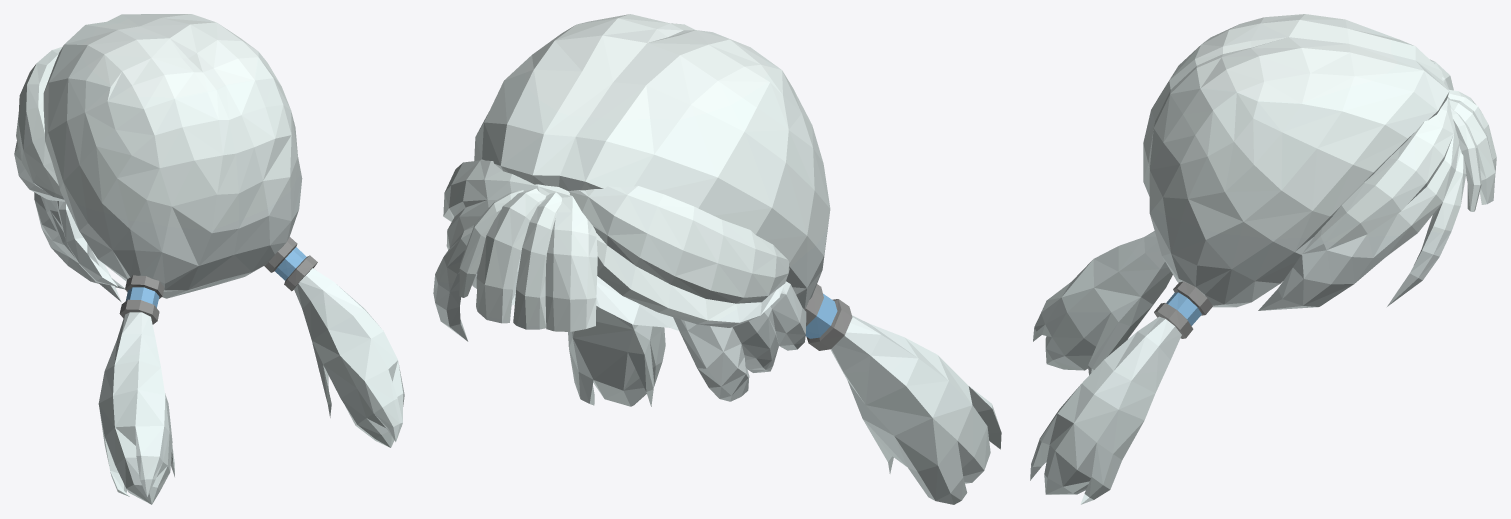
The model's file is CharSkyKid_Hair_PigtailLow.glb.
3 renders of one model, left to right at view 1: azimuth 30°, elevation 25°; view 2: azimuth 150°, elevation 25°; view 3: azimuth 270°, elevation 25°, orthographic. The views are drawn at different scales.
Parts seen in each view (by area): view 1: CharSkyKid_Hair_PigtailLow; view 2: CharSkyKid_Hair_PigtailLow; view 3: CharSkyKid_Hair_PigtailLow.
Boxes of the visible parts, x1,y1,x2,y2 form: CharSkyKid_Hair_PigtailLow: (14,14,404,504); CharSkyKid_Hair_PigtailLow: (433,14,1001,504); CharSkyKid_Hair_PigtailLow: (1030,14,1496,504).
Size of the model in its own units: 3.36 by 4.12 by 4.31.
Materials: 1 (1 with a texture image).
